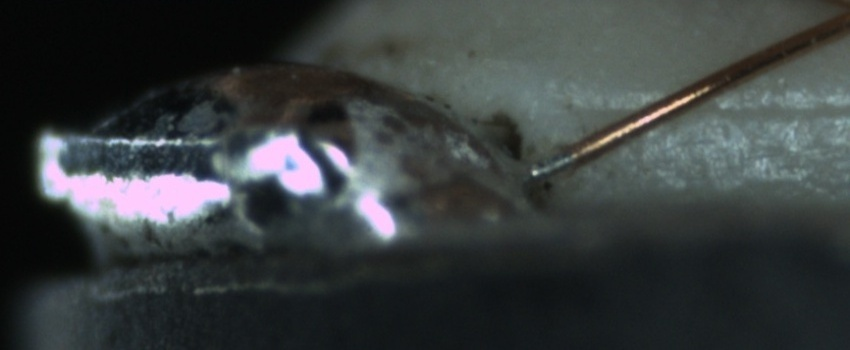DL: (601, 77, 849, 143)
TS: (527, 148, 577, 180)
TTCW: (526, 143, 578, 179)
